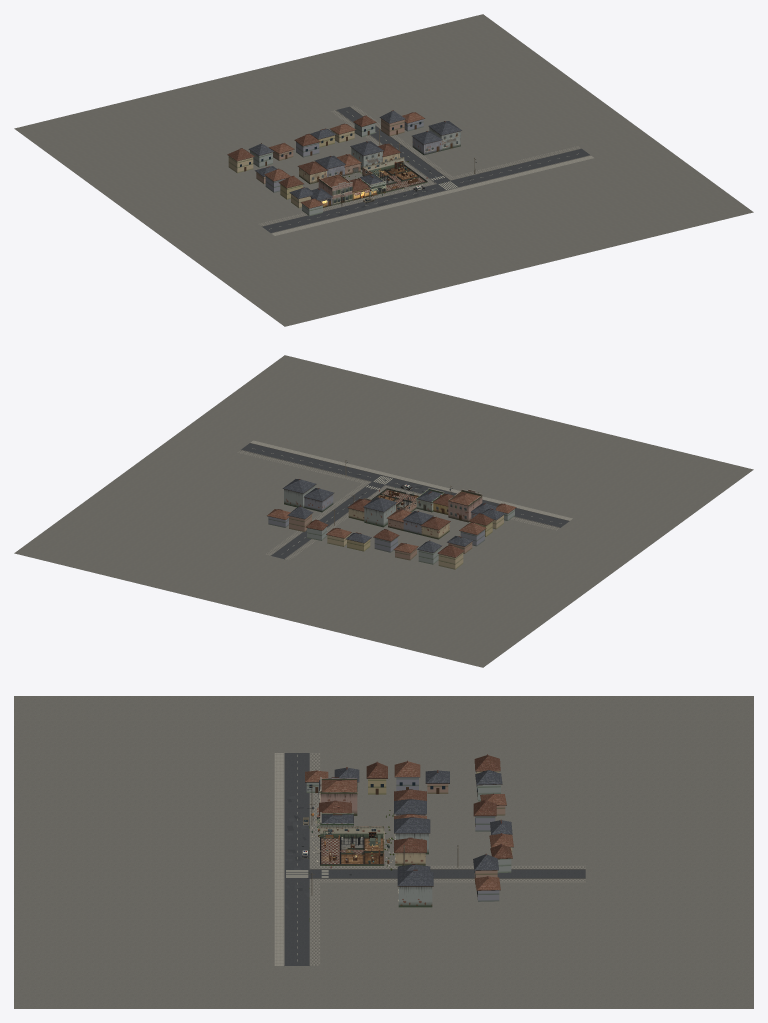
The model's file is delegacia_17h.glb.
The picture shows the model from 3 angles, top to bottom: view 1: azimuth 30°, elevation 25°; view 2: azimuth 150°, elevation 25°; view 3: azimuth 270°, elevation 25°; orthographic projection. The views are drawn at different scales.
Size of the model in its own units: 220 by 11.85 by 220.
573 materials, 151 textured.
